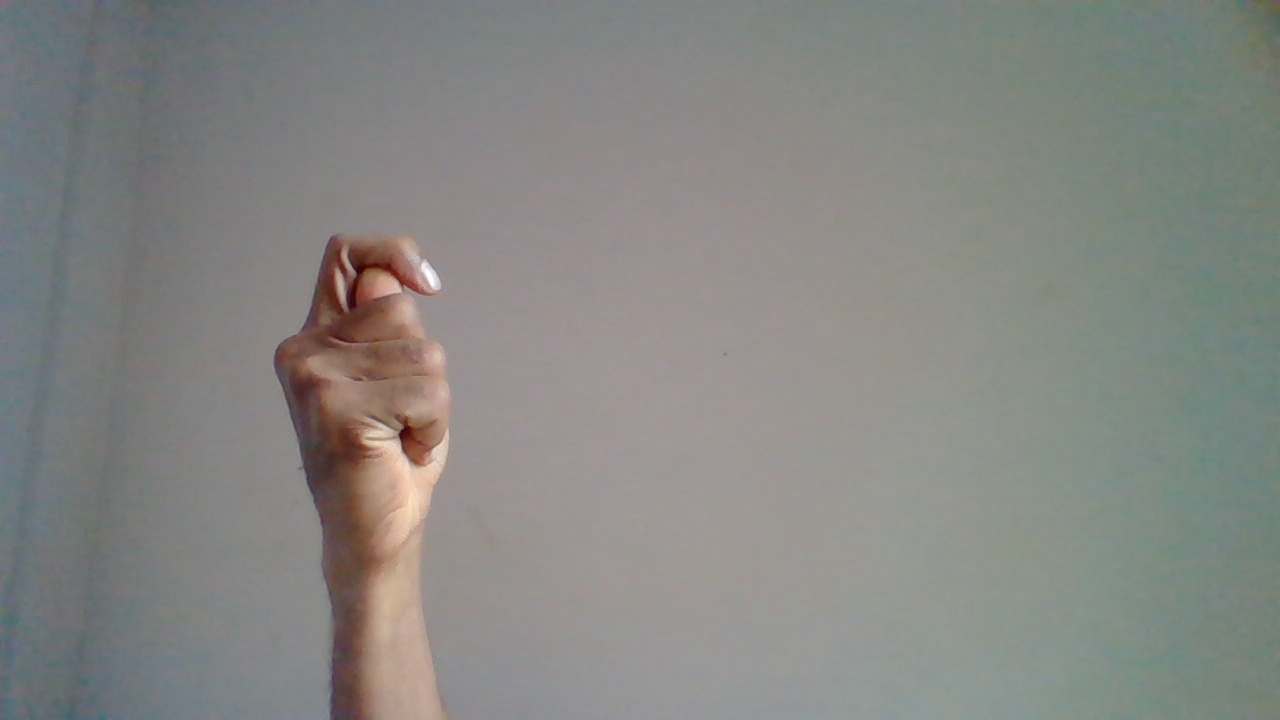che: (271, 235, 457, 693)
